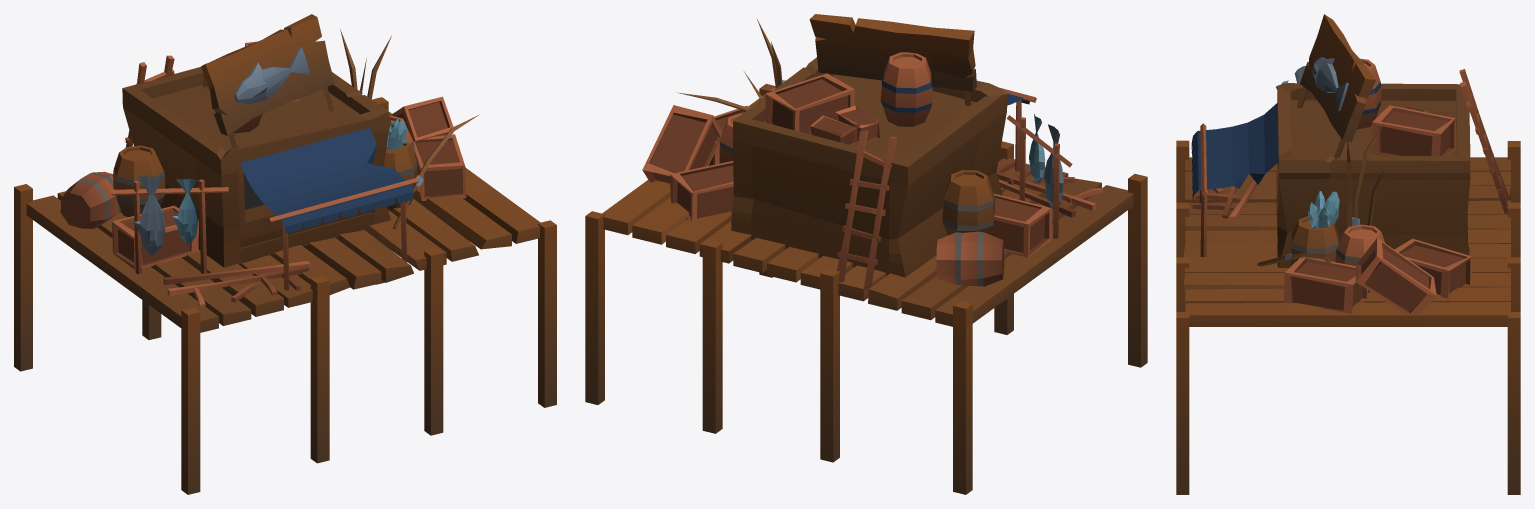
The model's file is FishShop.fbx.
The picture shows the model from 3 angles, left to right: view 1: azimuth 30°, elevation 25°; view 2: azimuth 150°, elevation 25°; view 3: azimuth 270°, elevation 25°; orthographic projection. The views are drawn at different scales.
Parts seen in each view (by area): view 1: Shop_Port_Island.002; view 2: Shop_Port_Island.002; view 3: Shop_Port_Island.002.
Part boxes in pixels (box(x1,y1,x2,y2)): Shop_Port_Island.002: box(14, 14, 556, 494); Shop_Port_Island.002: box(585, 14, 1147, 494); Shop_Port_Island.002: box(1176, 14, 1520, 494).
Size of the model in its own units: 1152 by 1033 by 926.
